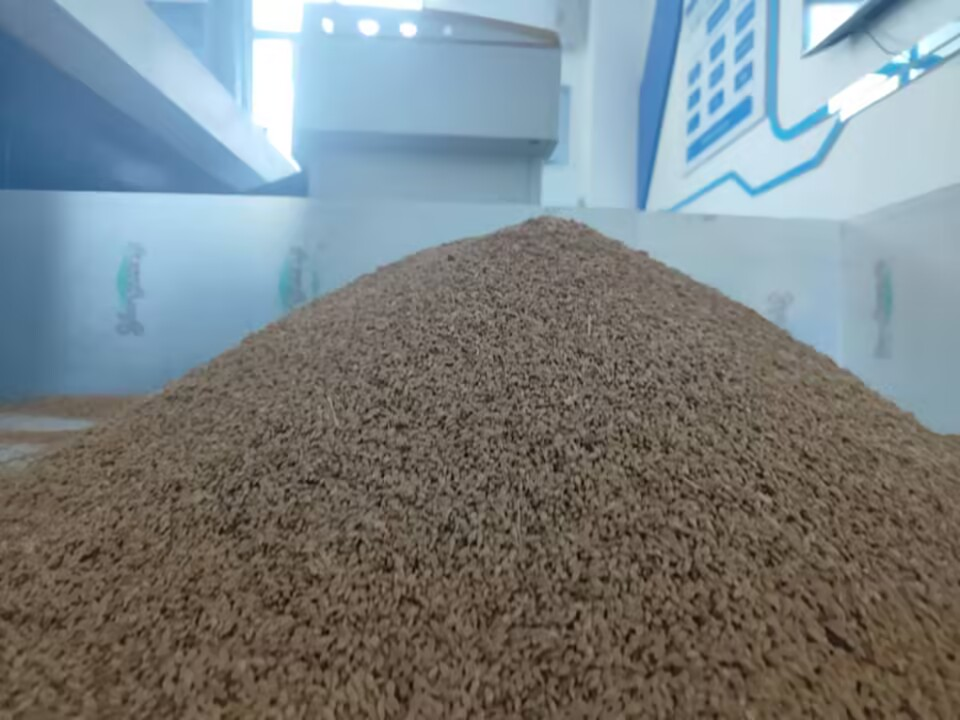Grain: (214, 203, 939, 704)
